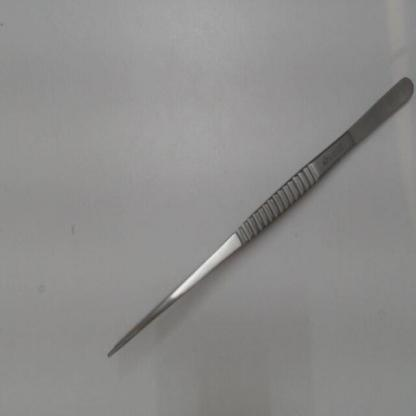DeBakey Dissector: (72, 55, 413, 392)
